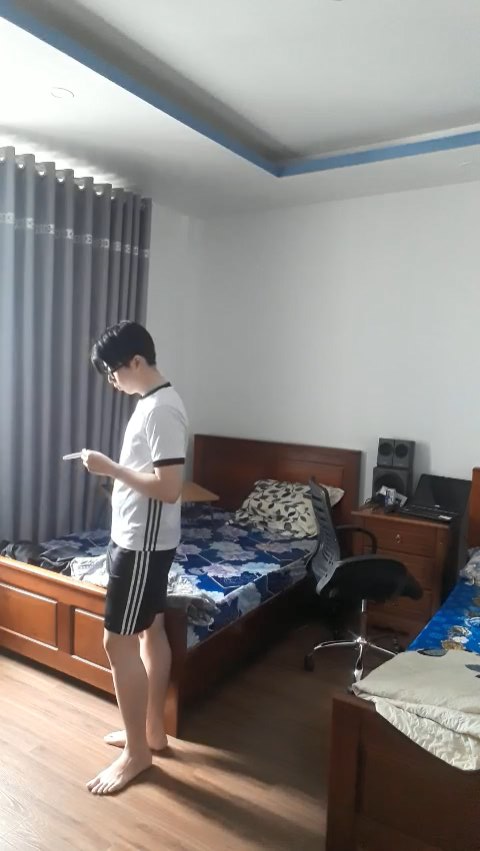cigarette: (58, 450, 84, 464)
person: (72, 318, 207, 803)
